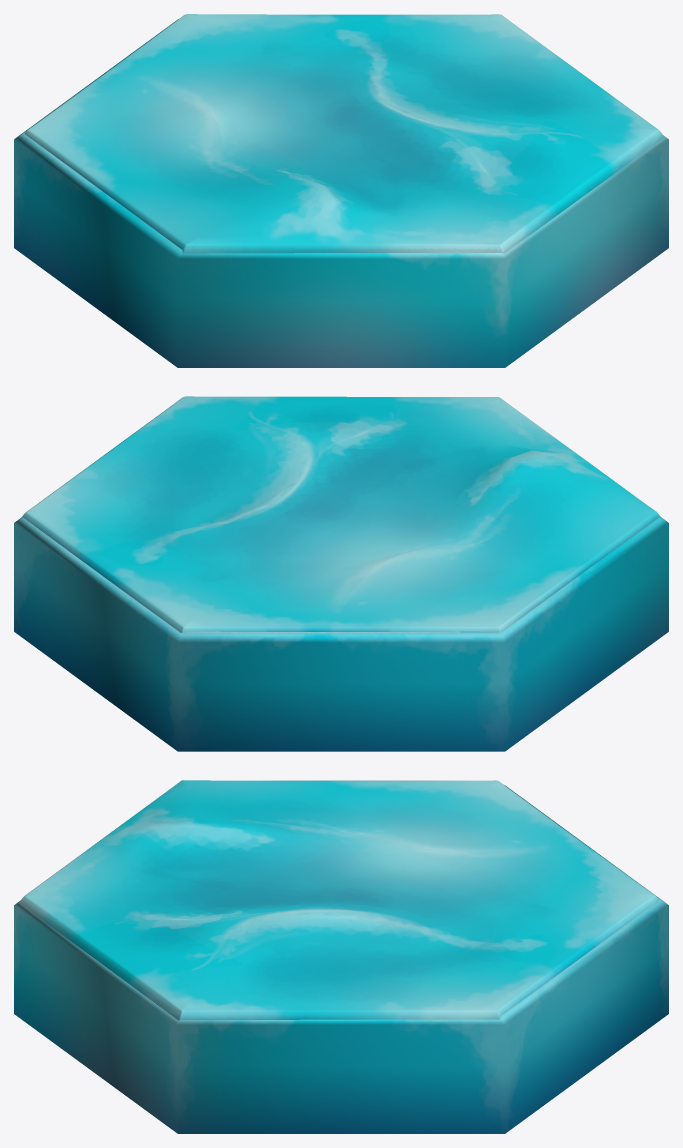
The model's file is water.fbx.
3 renders of one model, top to bottom at view 1: azimuth 30°, elevation 25°; view 2: azimuth 150°, elevation 25°; view 3: azimuth 270°, elevation 25°, orthographic.
Visible parts, largest first — view 1: water; view 2: water; view 3: water.
Part boxes in pixels (x1,y1,x2,y2): water: (14,14,668,367); water: (14,396,668,751); water: (14,780,668,1133).
Size of the model in its own units: 83.21 by 22.89 by 96.08.
Materials: 1 (1 with a texture image).
